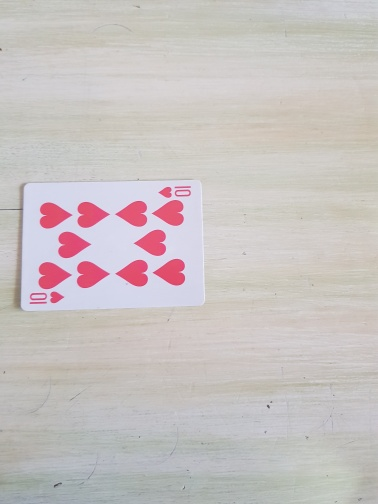ten: (20, 178, 205, 312)
